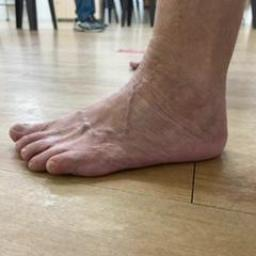Lateral View -Left Foot-: (4, 52, 246, 192)
